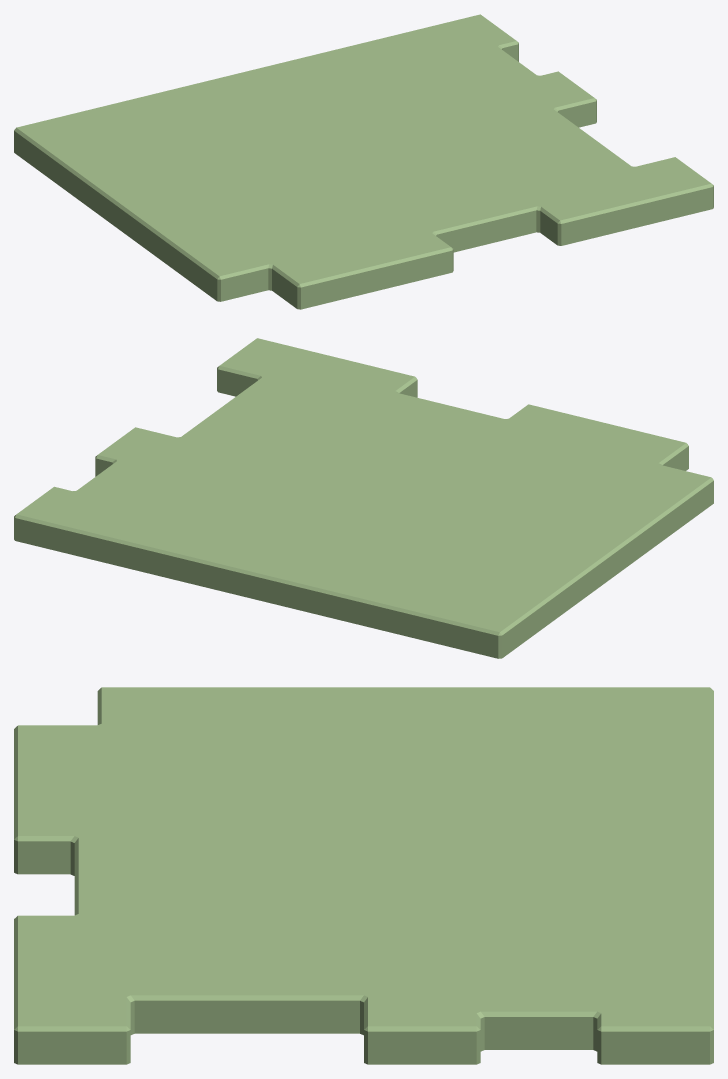
Rendered from Isl_17_Grass_1.fbx.
3 views of the same model, one above another, from view 1: azimuth 30°, elevation 25°; view 2: azimuth 150°, elevation 25°; view 3: azimuth 270°, elevation 25° (orthographic). The views are drawn at different scales.
Parts seen in each view (by area): view 1: Isl_17_Grass_1; view 2: Isl_17_Grass_1; view 3: Isl_17_Grass_1.
Part boxes in pixels (x1,y1,x2,y2): Isl_17_Grass_1: (14, 14, 713, 309); Isl_17_Grass_1: (14, 338, 713, 658); Isl_17_Grass_1: (14, 687, 713, 1064).
Bounding box in the file's own units: 1855 × 1602 × 92.69.
Materials: 1 (1 with a texture image).
